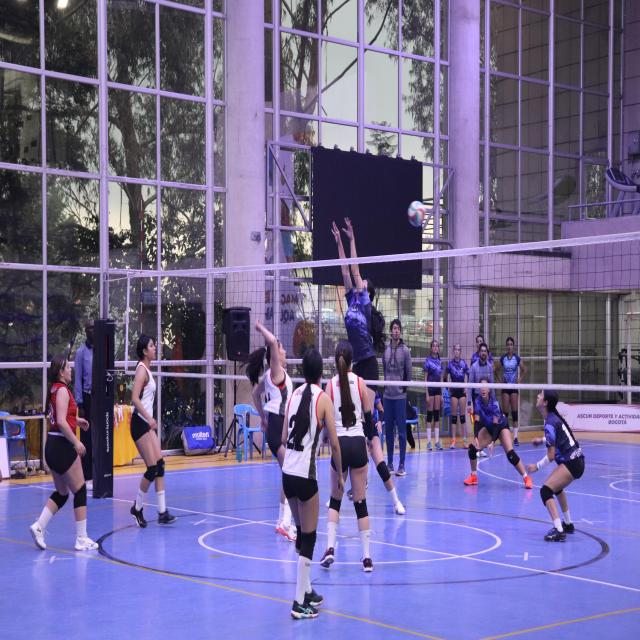volleyball: (407, 201, 426, 227)
